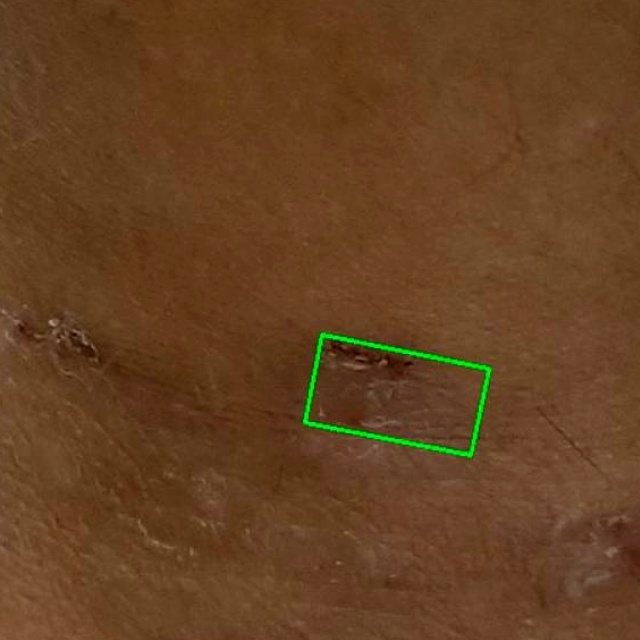Contact Dermatitis: (305, 335, 489, 456)
